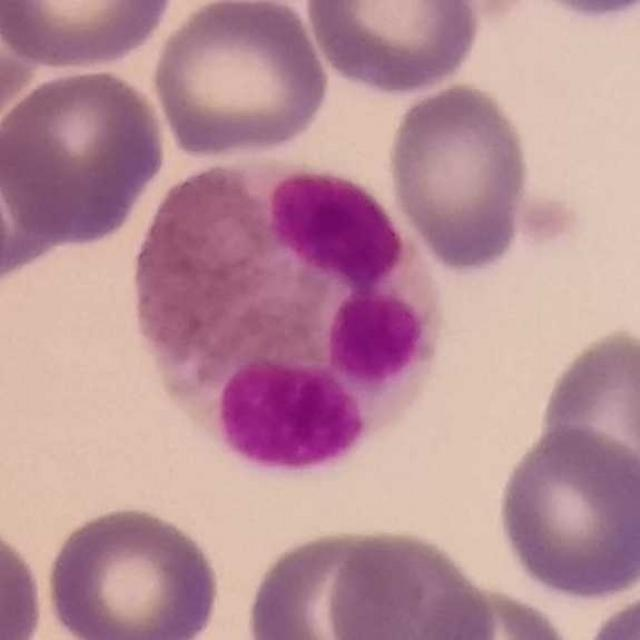eosino: (128, 152, 448, 469)
